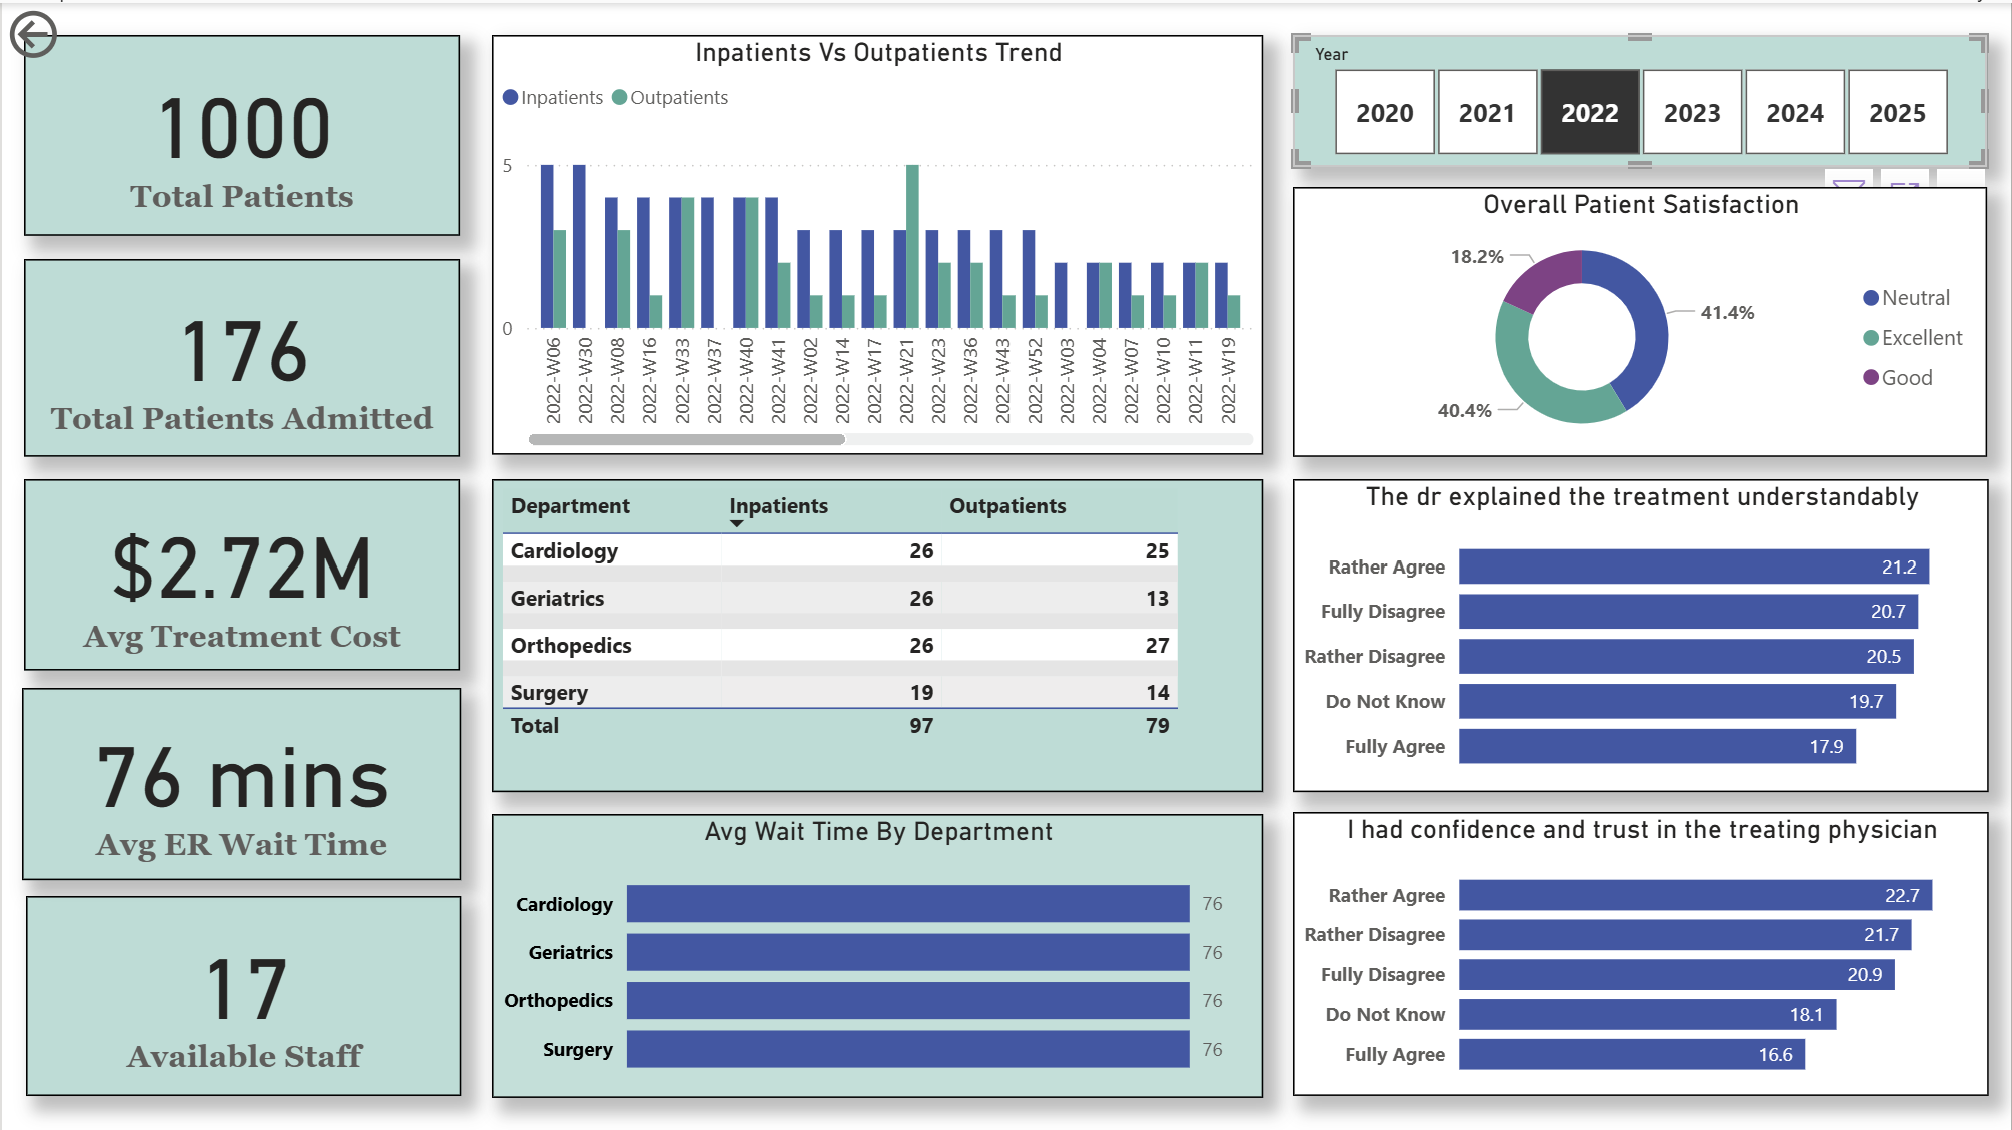

Layout of this report page (visuals, bound fields, positions):
{"tool":"powerbi","page":{"name":"Page 1","canvas":[1280,720],"ordinal":0},"visuals":[{"type":"card","fields":{"Values":["CountNonNull(Patient.PatientID)"]},"box":[14.4,20.8,278.1,127.8],"z":0},{"type":"card","fields":{"Values":["CountNonNull(Admissions.PatientID)"]},"box":[14.4,163,278.1,126.2],"z":1000},{"type":"card","fields":{"Values":["Sum(TreatmentCosts.TreatmentCost)"]},"box":[14.4,303.6,278.1,121.4],"z":2000},{"type":"card","fields":{"Values":["Admissions.Avg_Wait_Time_Label"]},"box":[12.5,436.2,280,122.5],"z":3000},{"type":"clusteredColumnChart","title":"Inpatients Vs Outpatients Trend","fields":{"Y":["Admissions.Inpatients","Admissions.Outpatients"],"Category":["Admissions.Week of Year"]},"box":[312.4,20.4,490.8,267.7],"z":4000},{"type":"slicer","fields":{"Values":["Admissions.Year"]},"box":[822.3,20.4,442.4,84.1],"z":5000},{"type":"card","fields":{"Values":["Staff.TotalAvailableStaff"]},"box":[15,568.8,277.5,127.5],"z":6000},{"type":"tableEx","fields":{"Values":["Admissions.Department","Admissions.Inpatients","Admissions.Outpatients"]},"box":[312.4,303.4,490.8,198.9],"z":7000},{"type":"actionButton","box":[0,0,100,40],"z":8000},{"type":"barChart","title":"Avg Wait Time By Department","fields":{"Category":["Admissions.Department"],"Y":["Admissions.AvgWaitTimePerDept"]},"box":[312.4,516.3,490.8,181],"z":9000},{"type":"donutChart","title":"Overall Patient Satisfaction","fields":{"Category":["SatisfactionSurvey.SatisfactionCategory"],"Y":["CountNonNull(SatisfactionSurvey.PatientID)"]},"box":[822.3,117.3,442.4,172.1],"z":10000},{"type":"clusteredBarChart","title":"The dr explained the treatment understandably","fields":{"Category":["ConsultationSummary.ConsultationSatisfaction"],"Y":["Sum(ConsultationSummary.ConsultationSatisfaction %)"]},"box":[822.3,303.4,443.7,198.9],"z":11000},{"type":"clusteredBarChart","title":"I had confidence and trust in the treating physician","fields":{"Category":["TreatmentSummary.TreatmentSatisfaction"],"Y":["Sum(TreatmentSummary.TreatmentSatisfaction %)"]},"box":[822.3,515.1,443.7,181],"z":12000}]}

Visuals, with their boxes in screenshot pixels (x1, y1, x2, y2), scaled from the page's 1280x720 canvas onto the 2012x1130 screenshot:
card - CountNonNull(Patient.PatientID): <bbox>23, 33, 460, 233</bbox>
card - CountNonNull(Admissions.PatientID): <bbox>23, 256, 460, 454</bbox>
card - Sum(TreatmentCosts.TreatmentCost): <bbox>23, 476, 460, 667</bbox>
card - Admissions.Avg_Wait_Time_Label: <bbox>20, 685, 460, 877</bbox>
"Inpatients Vs Outpatients Trend" clusteredColumnChart: <bbox>491, 32, 1263, 452</bbox>
slicer - Admissions.Year: <bbox>1293, 32, 1988, 164</bbox>
card - Staff.TotalAvailableStaff: <bbox>24, 893, 460, 1093</bbox>
tableEx - Admissions.Department x Admissions.Inpatients: <bbox>491, 476, 1263, 788</bbox>
actionButton: <bbox>0, 0, 157, 63</bbox>
"Avg Wait Time By Department" barChart: <bbox>491, 810, 1263, 1094</bbox>
"Overall Patient Satisfaction" donutChart: <bbox>1293, 184, 1988, 454</bbox>
"The dr explained the treatment understandably" clusteredBarChart: <bbox>1293, 476, 1990, 788</bbox>
"I had confidence and trust in the treating physician" clusteredBarChart: <bbox>1293, 808, 1990, 1092</bbox>
